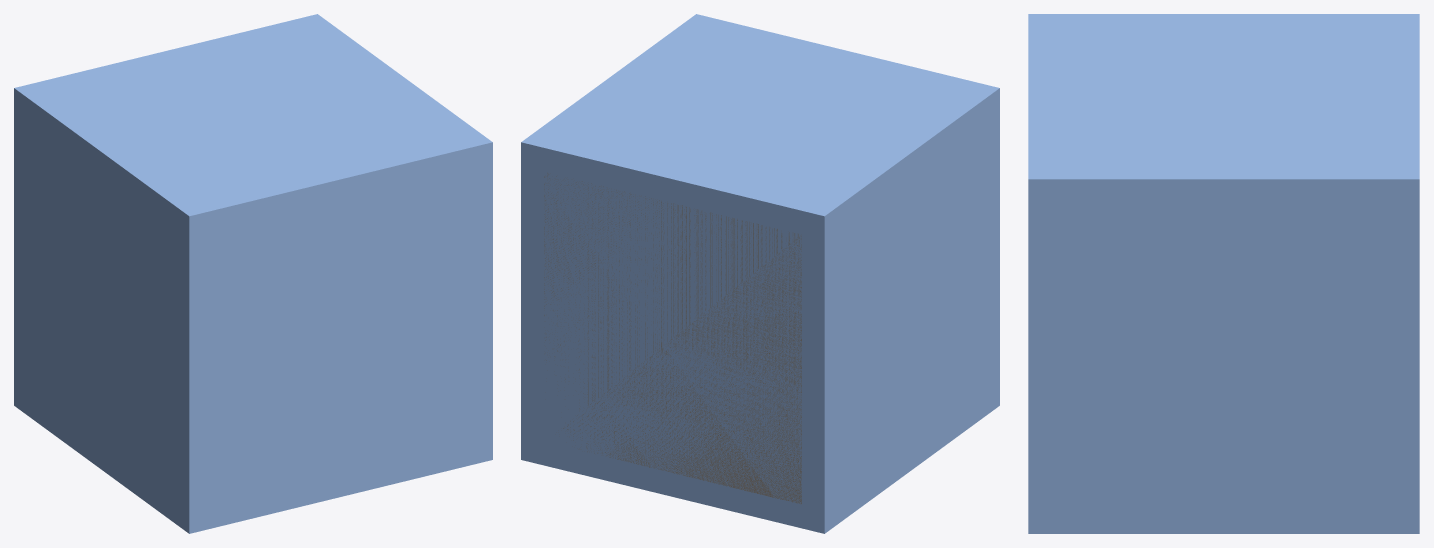
Rendered from 61_bluebell.glb.
3 views of the same model, side by side, from view 1: azimuth 30°, elevation 25°; view 2: azimuth 150°, elevation 25°; view 3: azimuth 270°, elevation 25° (orthographic). The views are drawn at different scales.
Parts seen in each view (by area): view 1: Core; view 2: Core, Soil; view 3: Core.
Boxes of the visible parts, left/top/right/bottom form: Core: left=14, top=14, right=492, bottom=533; Core: left=521, top=14, right=999, bottom=533; Soil: left=544, top=173, right=801, bottom=503; Core: left=1028, top=14, right=1419, bottom=533.
Size of the model in its own units: 1 by 1 by 1.
